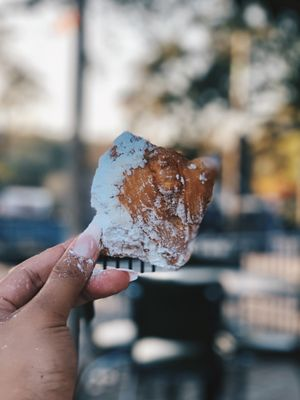pizza: (0, 221, 138, 400)
